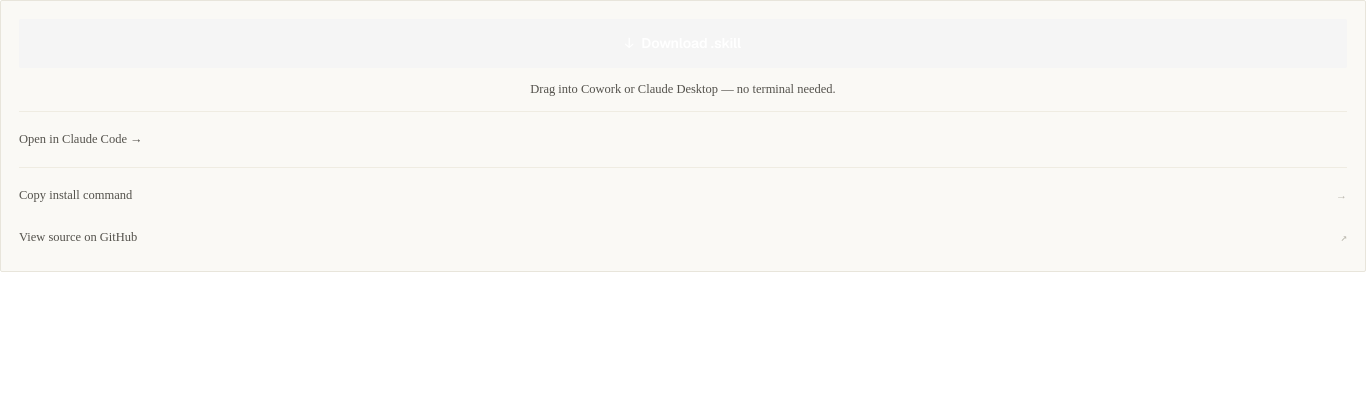
it: FeedbackPrompt › thumbs down: tracks feedback_down, writes the marker, reveals the comment input
The width and height of the screenshot is (1366, 403).
Click the button "Copy install command →" at (76, 194), box 19,180 -> 1347,210
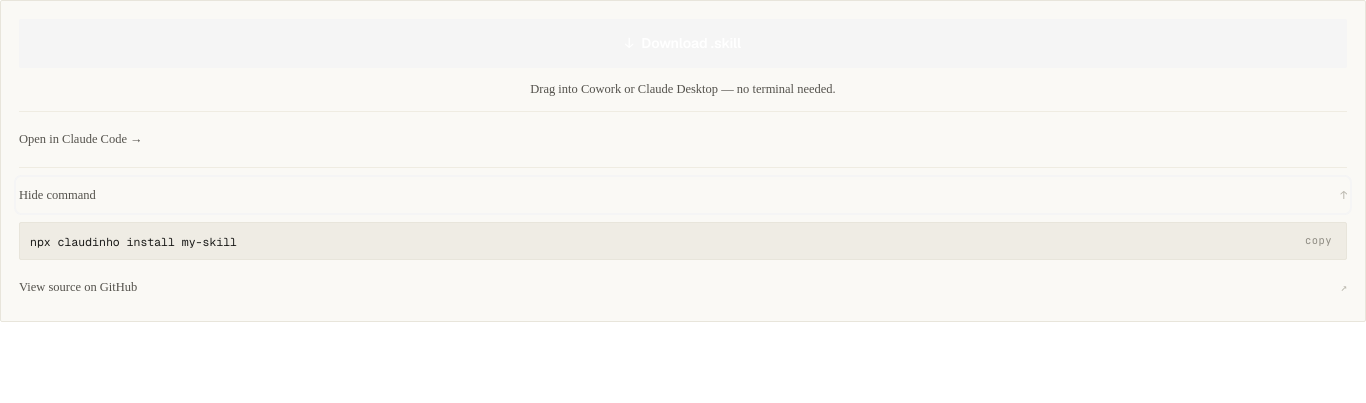
Click the button "copy" at (1319, 241), box 1301,231 -> 1336,251
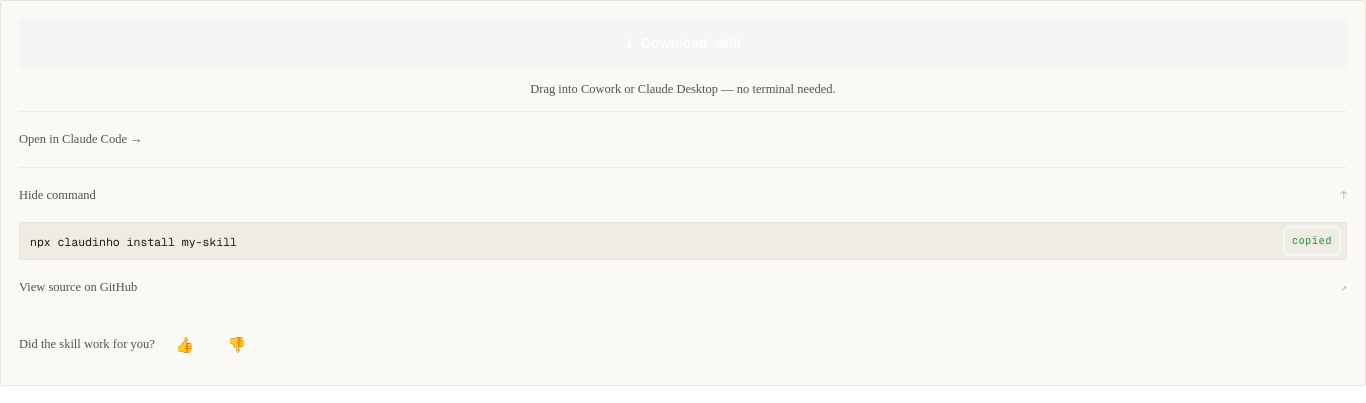
Click the button named "No, something went wrong" at (237, 345), box 215,323 -> 259,367
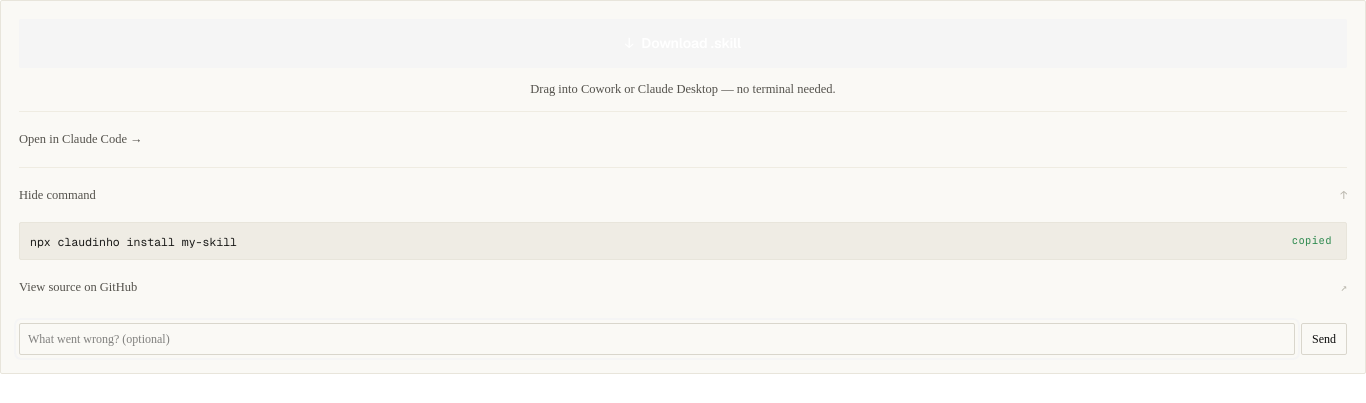
Now the field with placeholder "What went wrong? (optional)" is shown, box 19,323 -> 1295,355
